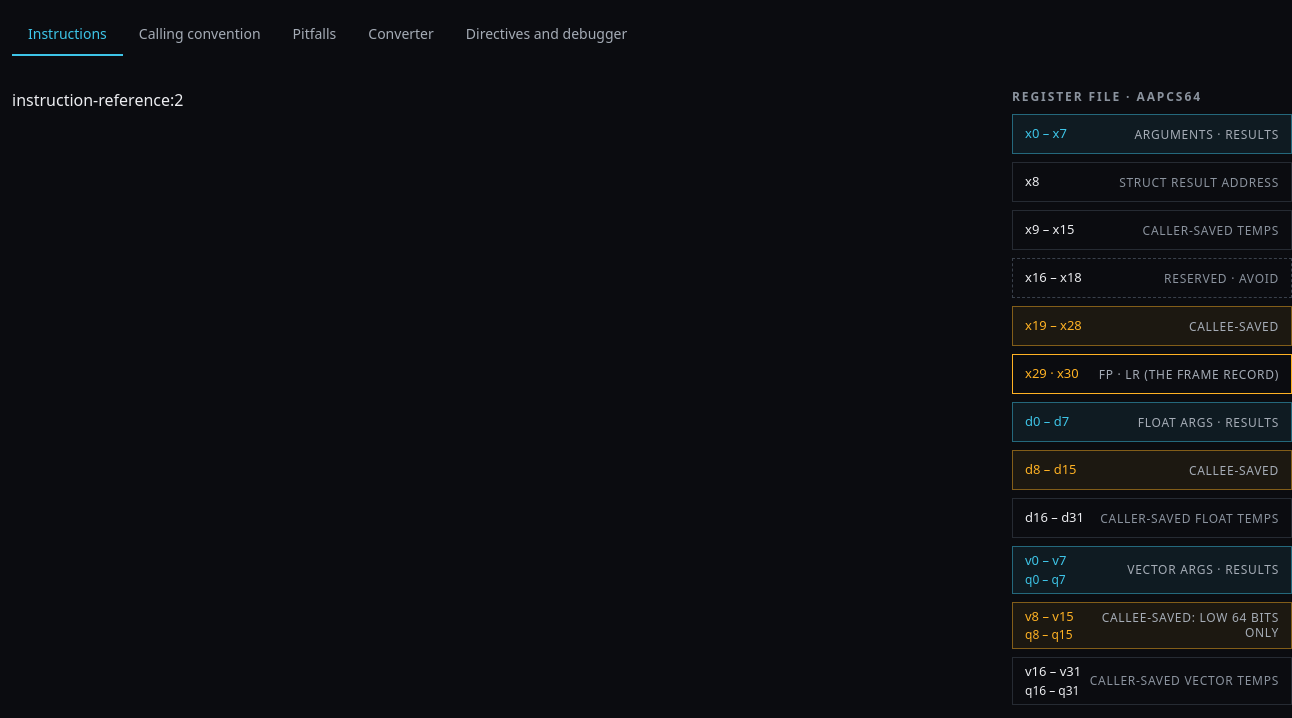
Scenario: ReferenceView › mounts the base converter behind its tab
Click the tab "Converter" at (401, 34), box [352,12,450,56]
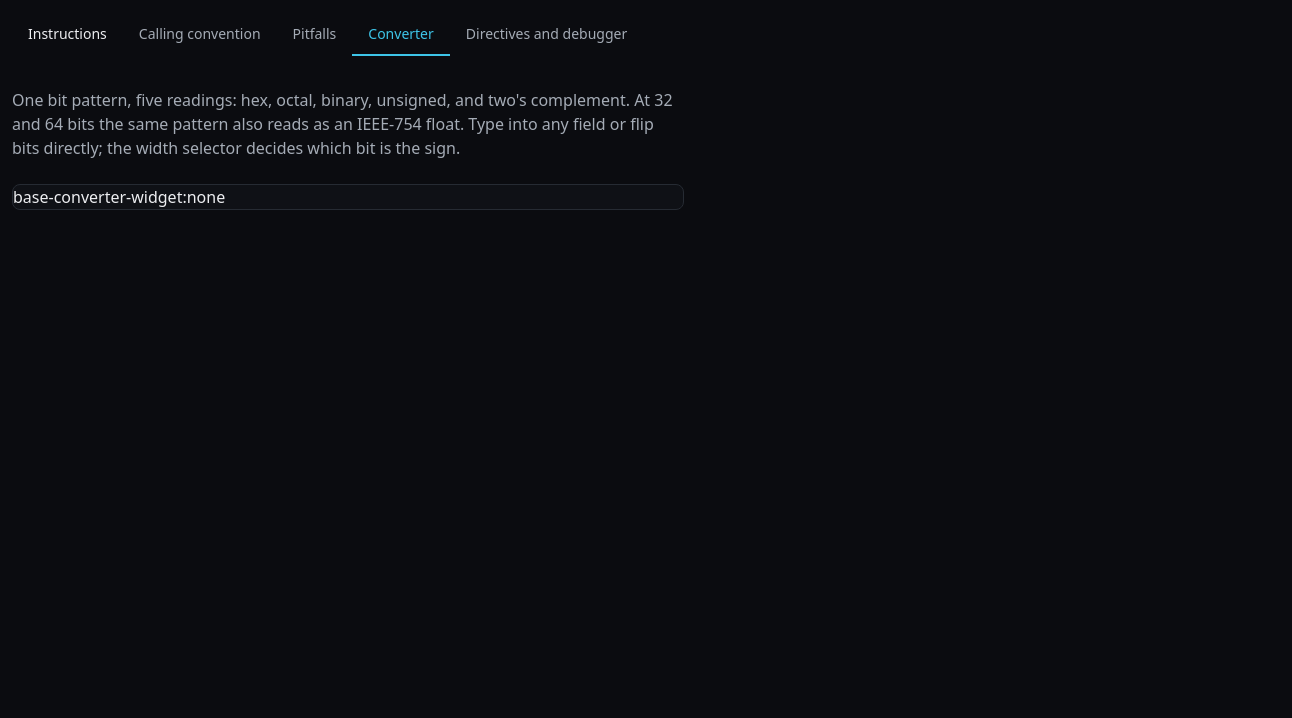
expect the text "base-converter-widget:none" is shown: met, box [12,184,684,210]
expect the text "One bit pattern, five readings" is shown: met, box [12,89,673,159]
